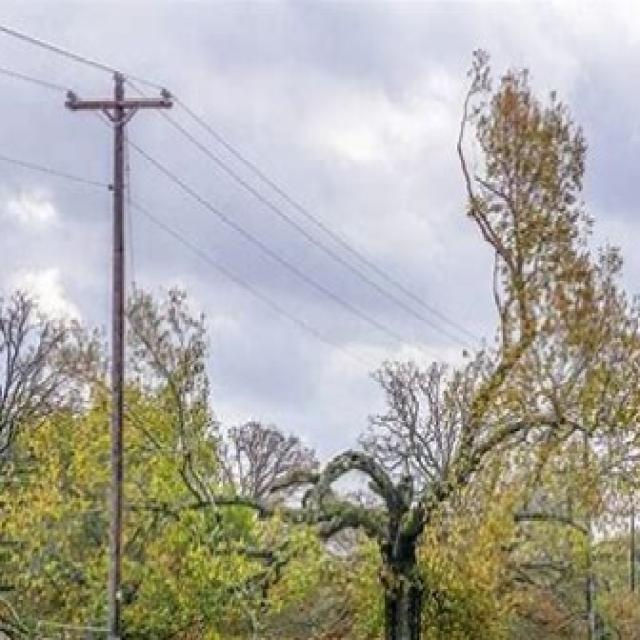utility poles: (61, 11, 175, 640)
